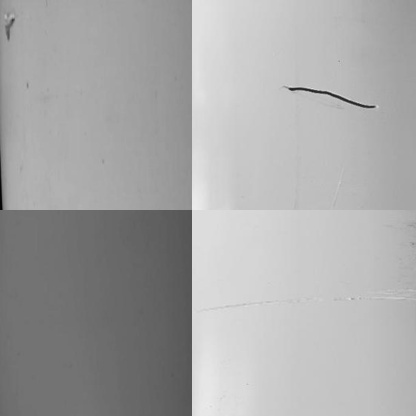fengxi: (281, 84, 378, 121)
sunshang: (1, 13, 19, 39)
